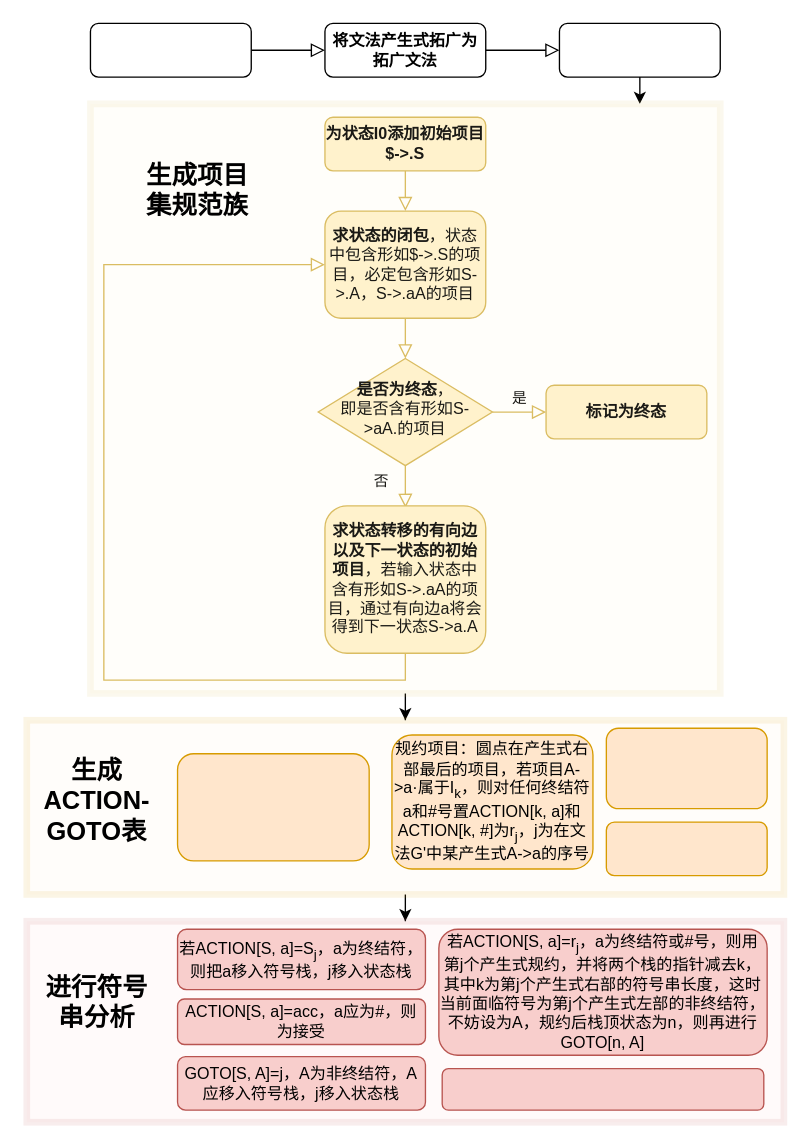
Some shapes in this 809 by 1148 pixel diagram are drawn without their labels. The box of each missing label's shape, as (x1, y1, x2, y2) in pixels:
从txt文件中获取文法产生式: (89, 22, 251, 77)
待约项目：圆点后为非终结符的项目，若GO(I k , A)=I j ，则置GOTO[k, A]为j: (605, 727, 767, 809)
接受项目：规约项目为S'->S·，置ACTION[k, #]为acc: (605, 821, 767, 876)
根据拓广文法， 生成文法的所有项目: (558, 22, 720, 77)
移进项目：圆点后为终结符的项目，若项目A->a·ab属于I k 且转换函数GO(I k , a)=I j ，当a为终结符时则置ACTION[k, a]为S j: (176, 752, 369, 861)
若ACTION[S, a]为空白，转向出错处理: (441, 1067, 764, 1110)
